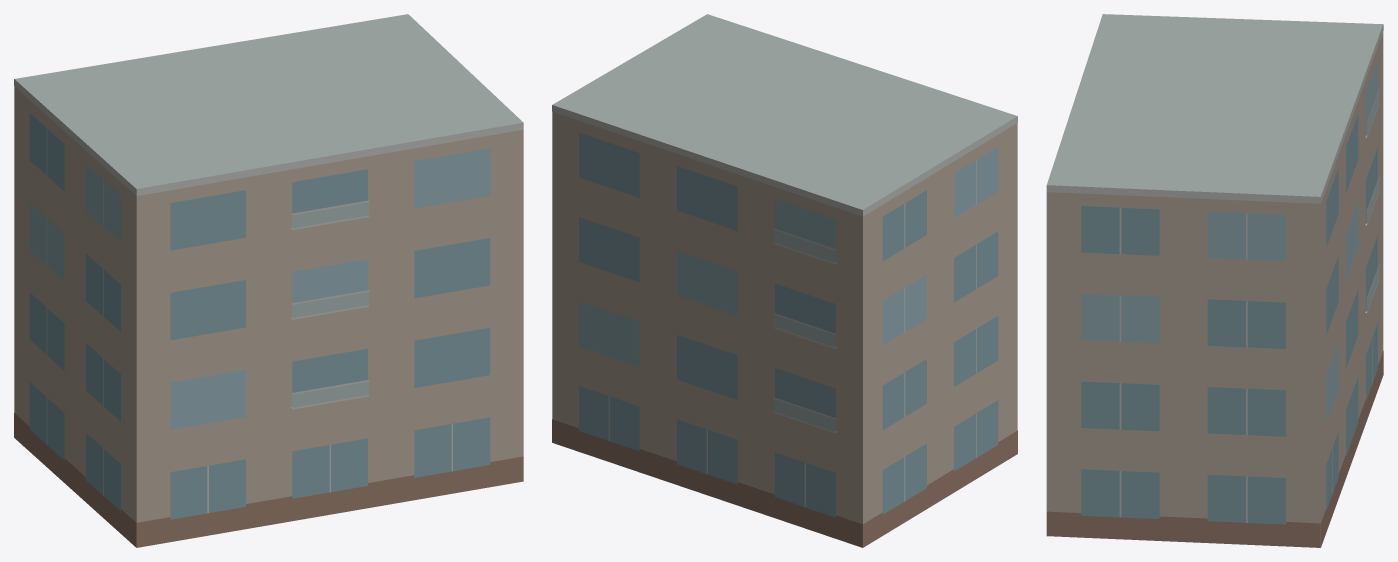
Rendered from survey-upis-32643135.glb.
3 views of the same model, side by side, from view 1: azimuth 30°, elevation 25°; view 2: azimuth 150°, elevation 25°; view 3: azimuth 270°, elevation 25° (orthographic). The views are drawn at different scales.
Parts seen in each view (by area): view 1: survey-upis-32643135.tmp; view 2: survey-upis-32643135.tmp; view 3: survey-upis-32643135.tmp.
Boxes of the visible parts, x1,y1,x2,y2 form: survey-upis-32643135.tmp: [14, 14, 523, 547]; survey-upis-32643135.tmp: [552, 14, 1017, 547]; survey-upis-32643135.tmp: [1046, 14, 1383, 547].
Size of the model in its own units: 13.87 by 12.4 by 10.79.
